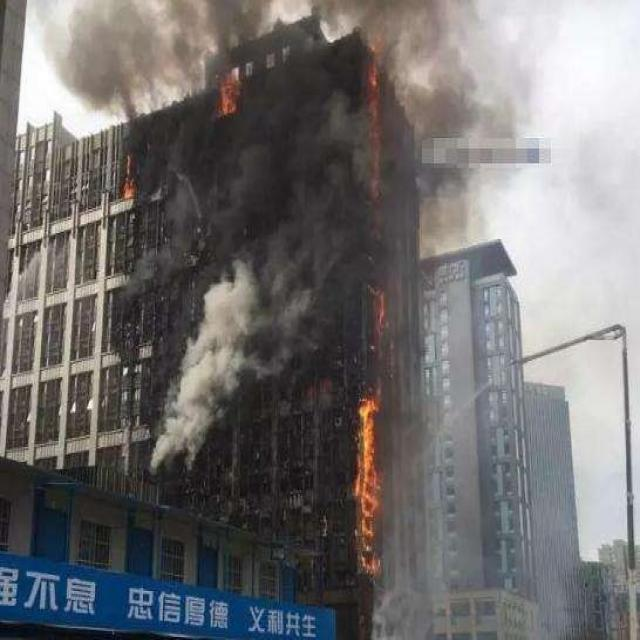fire: (353, 379, 387, 591), (364, 44, 391, 208), (368, 280, 388, 348), (118, 147, 142, 199), (218, 68, 239, 120)
